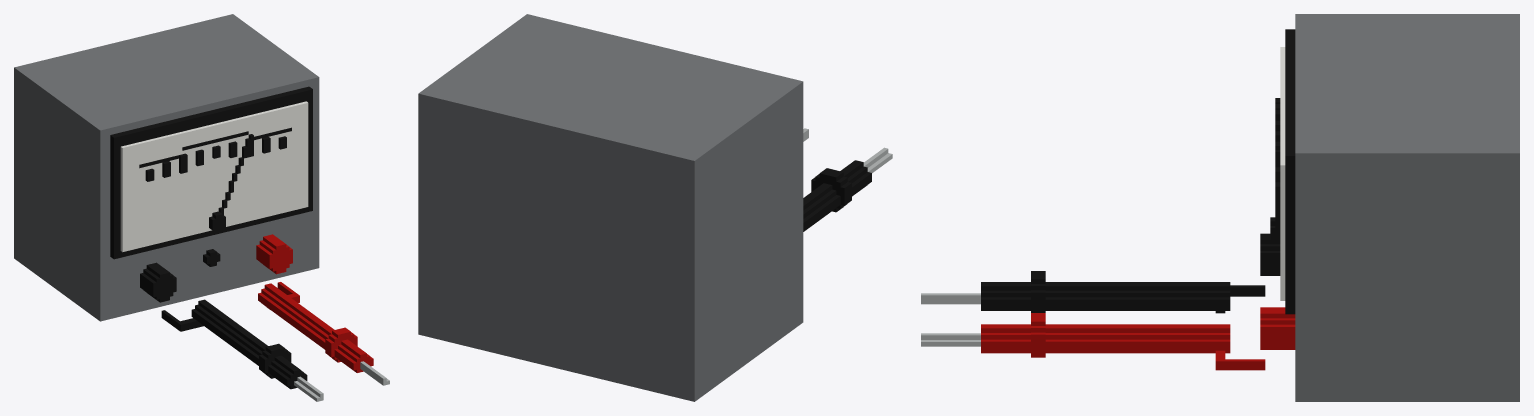
Rendered from voltmeter.glb.
3 views of the same model, side by side, from view 1: azimuth 30°, elevation 25°; view 2: azimuth 150°, elevation 25°; view 3: azimuth 270°, elevation 25° (orthographic). The views are drawn at different scales.
Parts seen in each view (by area): view 1: voltmeter:compound; view 2: voltmeter:compound; view 3: voltmeter:compound.
Part boxes in pixels (left/top/right/bottom): voltmeter:compound: left=14, top=14, right=389, bottom=401; voltmeter:compound: left=418, top=14, right=892, bottom=401; voltmeter:compound: left=921, top=14, right=1519, bottom=401.
Size of the model in its own units: 0.132 by 0.11 by 0.24.
